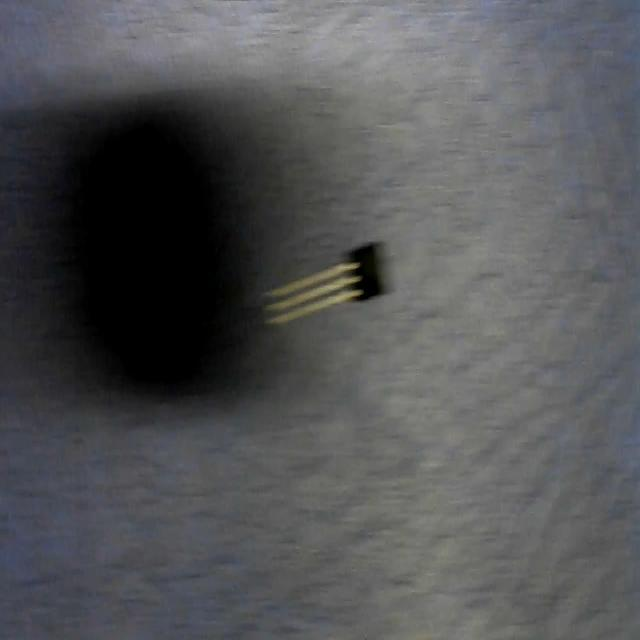BJT: (263, 242, 388, 334)
